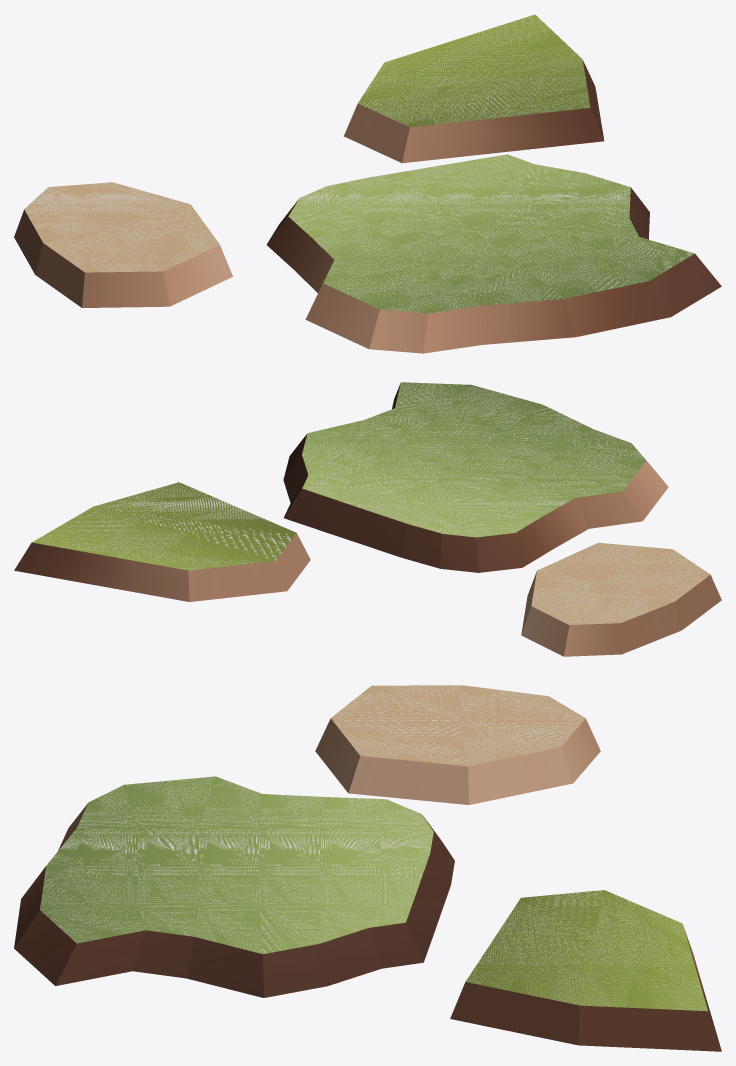
Rendered from Env_World_Plane.fbx.
The picture shows the model from 3 angles, top to bottom: view 1: azimuth 30°, elevation 25°; view 2: azimuth 150°, elevation 25°; view 3: azimuth 270°, elevation 25°; orthographic projection. The views are drawn at different scales.
Parts seen in each view (by area): view 1: World_Plane_model, World_Plane_Nav; view 2: World_Plane_model, World_Plane_Nav; view 3: World_Plane_model, World_Plane_Nav.
Boxes of the visible parts, box(x1,y1,x2,y2) form: World_Plane_model: box(14, 14, 721, 353); World_Plane_Nav: box(24, 15, 693, 312); World_Plane_model: box(14, 382, 721, 656); World_Plane_Nav: box(34, 383, 702, 623); World_Plane_model: box(14, 685, 721, 1051); World_Plane_Nav: box(40, 685, 707, 1010).
Bounding box in the file's own units: 164 × 7.55 × 146.
